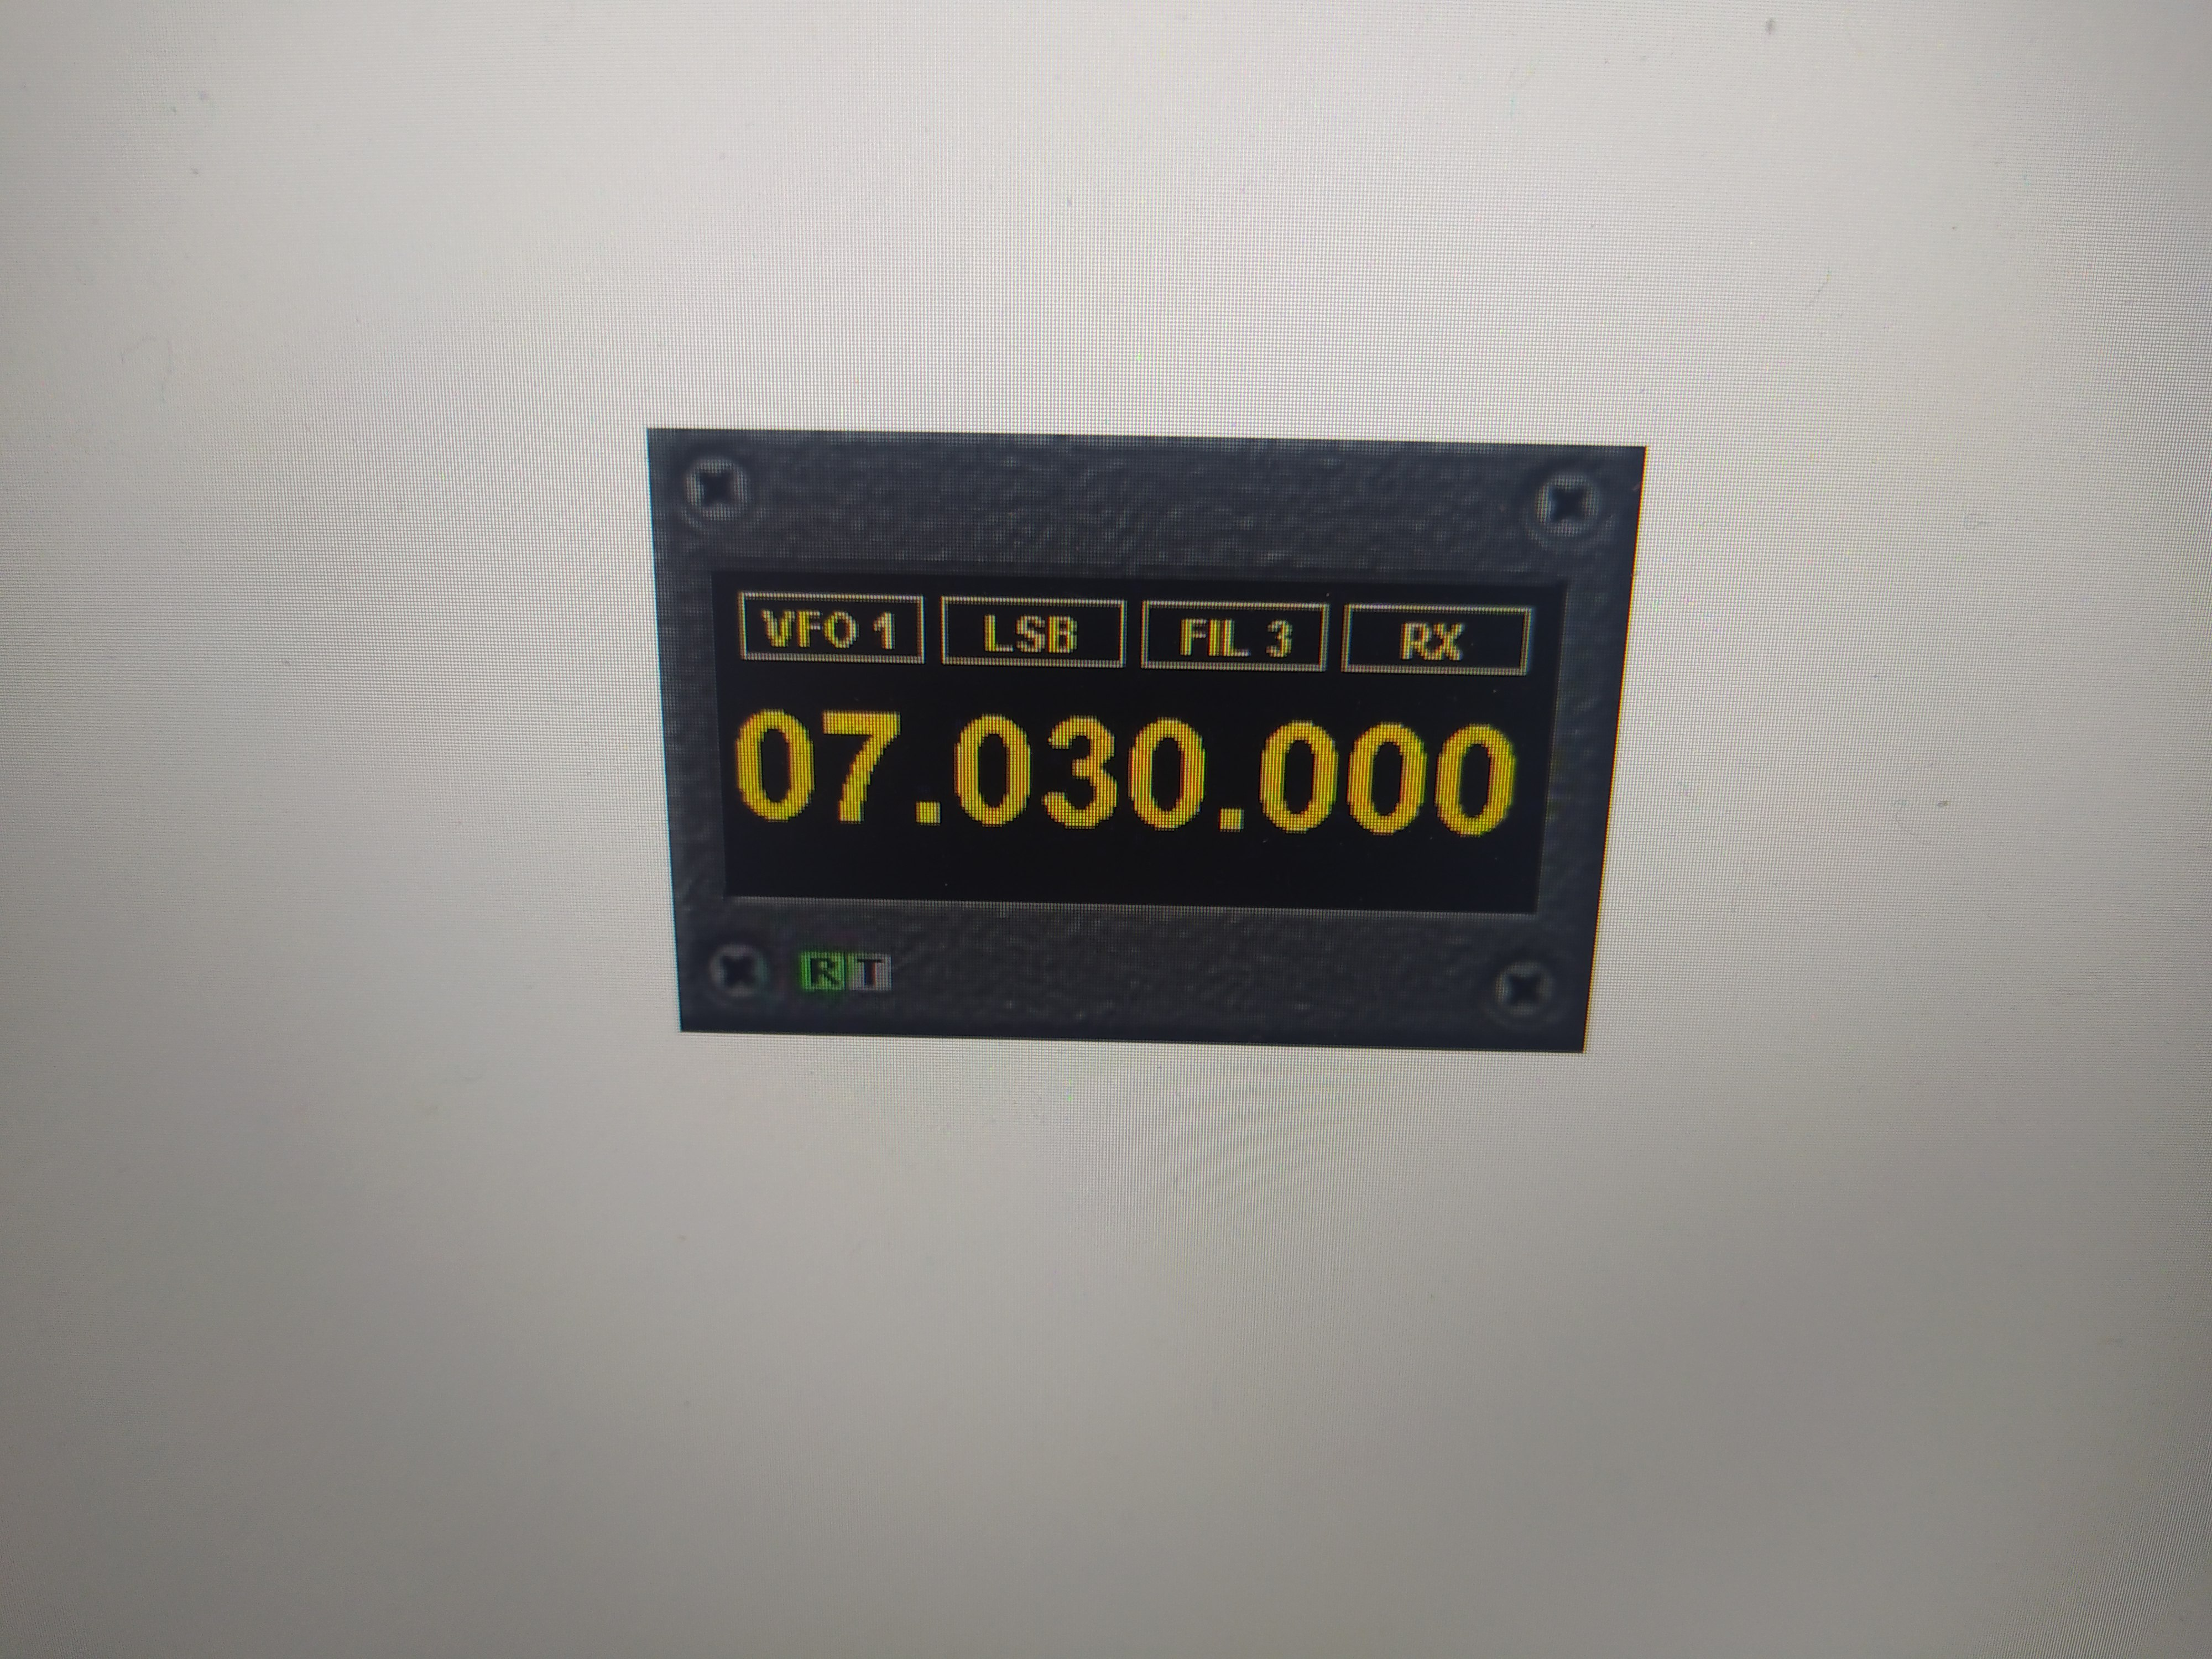.: (916, 711, 944, 824), (1219, 713, 1244, 830)
0: (1435, 720, 1515, 836), (735, 709, 813, 824), (1258, 720, 1336, 835), (1348, 721, 1426, 836), (1127, 718, 1205, 831), (954, 714, 1031, 828)
1: (874, 610, 895, 650)
3: (1040, 714, 1116, 830), (1266, 619, 1292, 660)
7: (822, 711, 902, 824)
